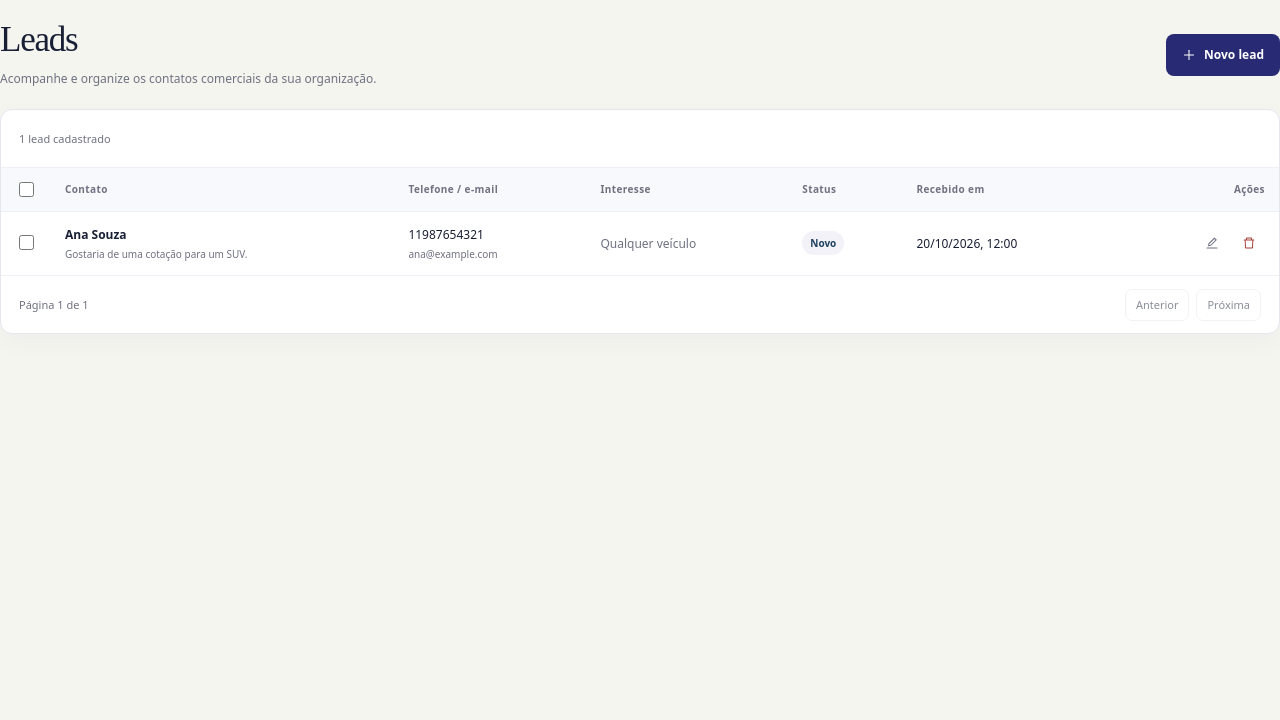
Scenario: leads page › updates lead status and deletes selected leads
Click the button named "Editar lead de Ana Souza": (1212, 243) [1196,227,1228,259]
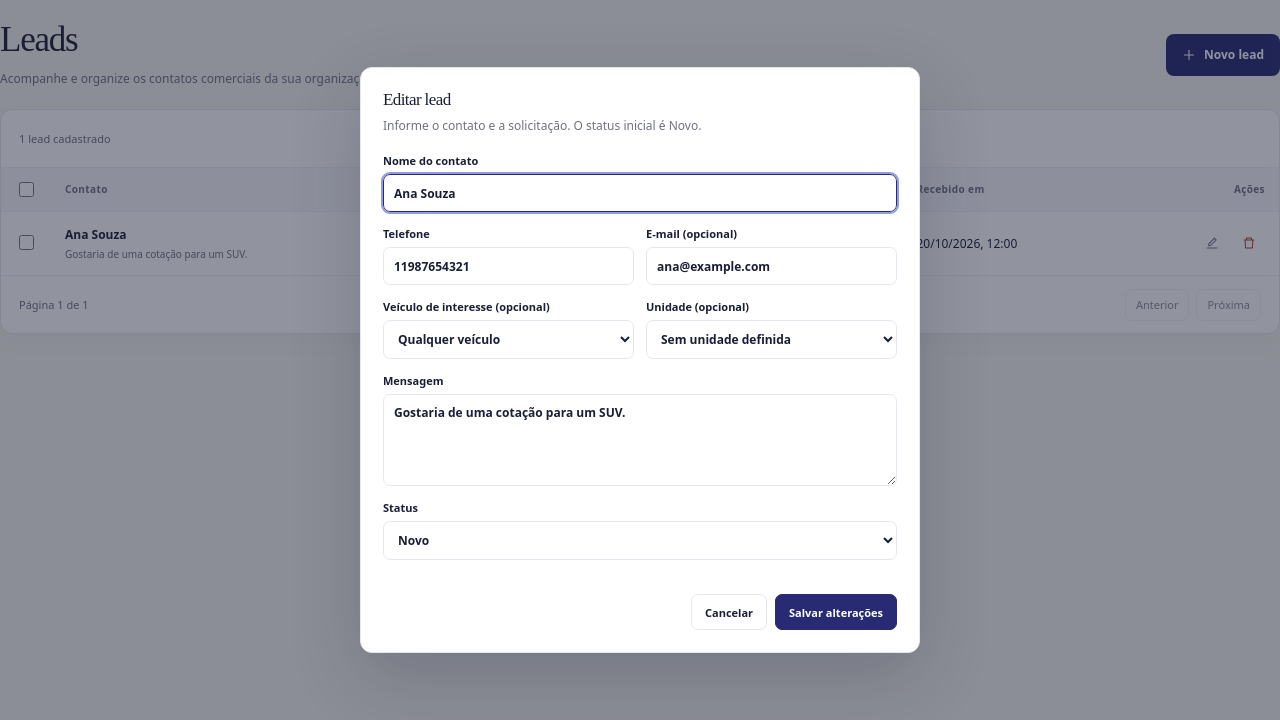
Select "Contatado" in the dropdown labelled "Status": (640, 540) [383,521,897,560]
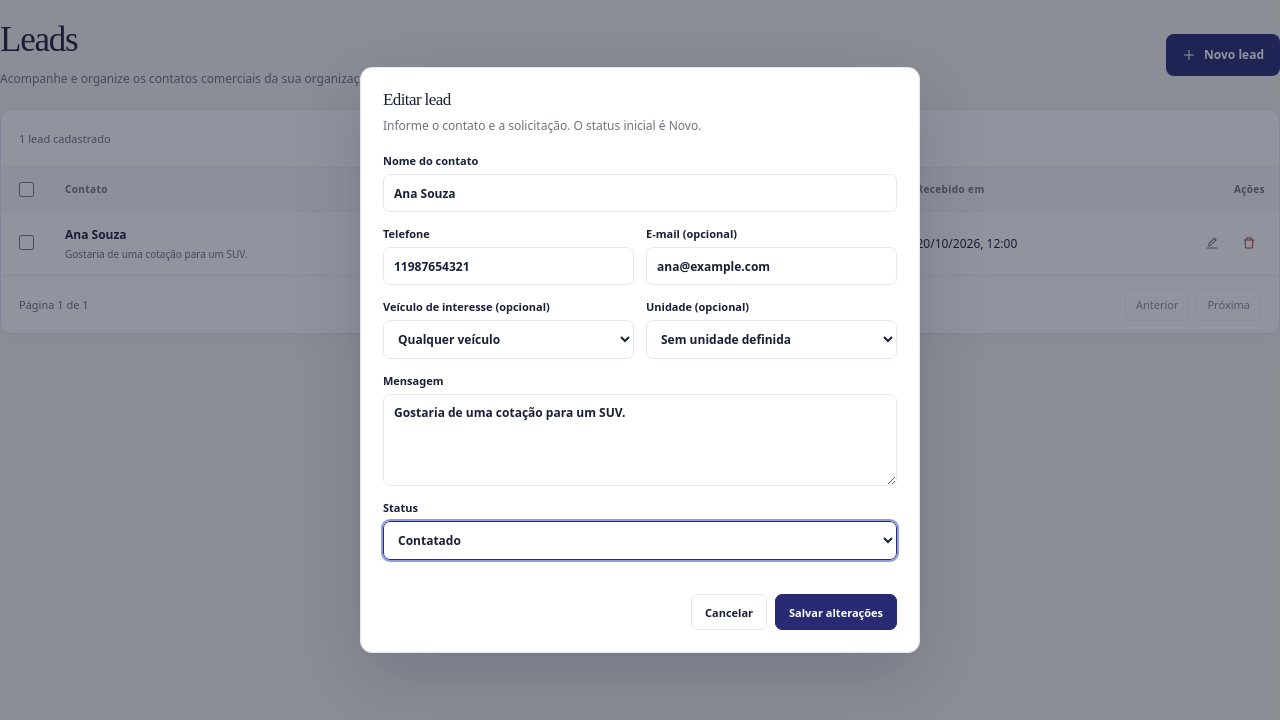
Click the button "Salvar alterações": (836, 612) [775,594,897,630]
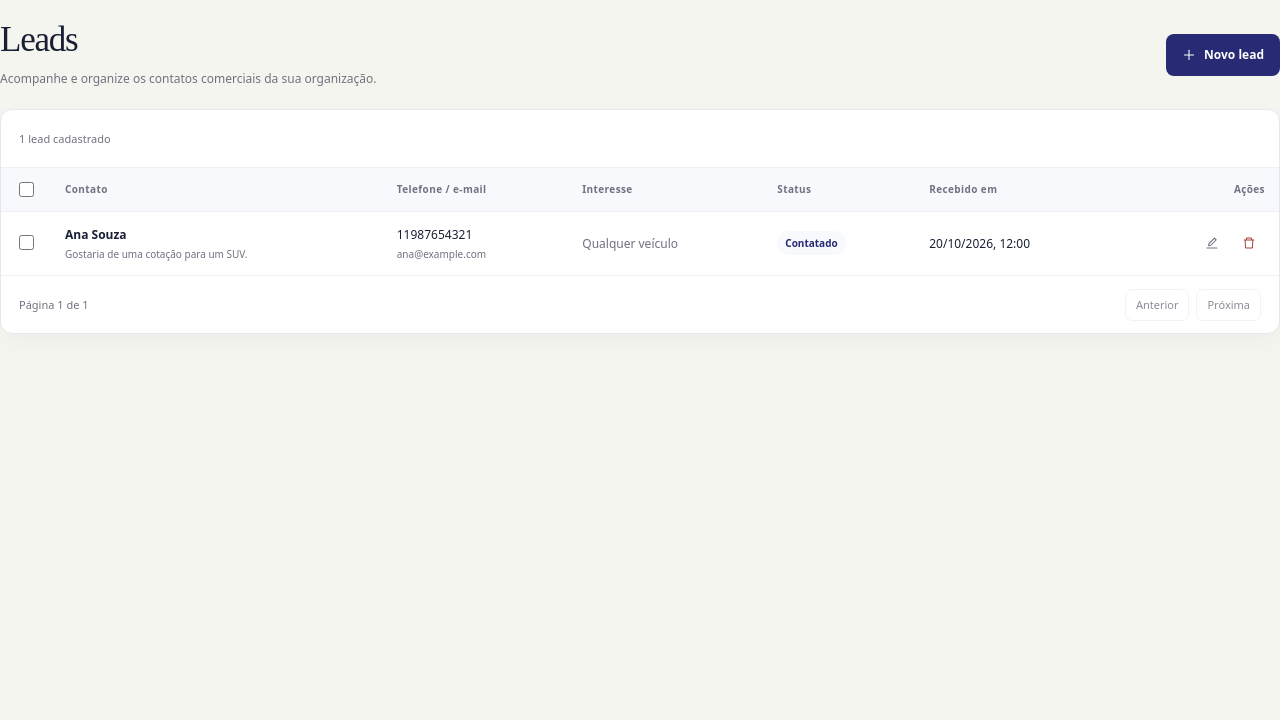
Now the text "Contatado" is shown, box [777,231,846,255]
Click the checkbox named "Selecionar Ana Souza": (26, 243) [19,235,34,250]
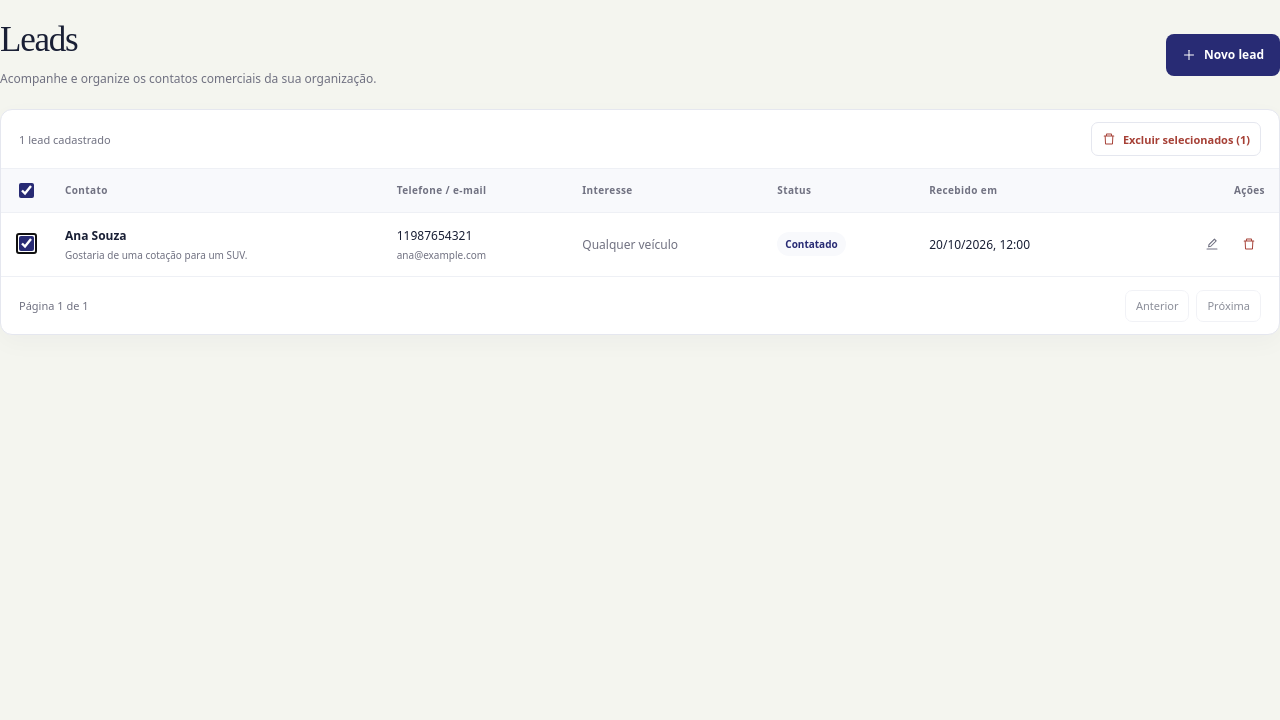
Click the button "Excluir selecionados (1)": (1176, 139) [1091,122,1261,156]
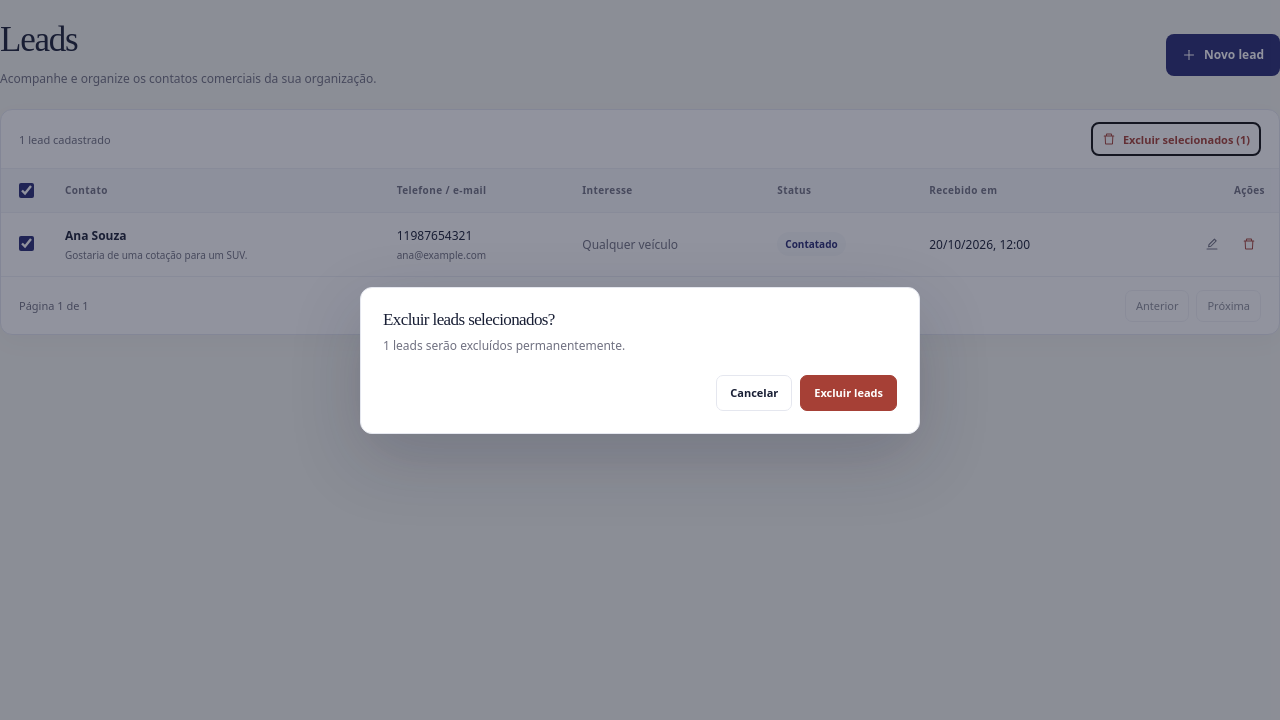
Click the button "Excluir leads": (849, 392) [800,374,897,410]
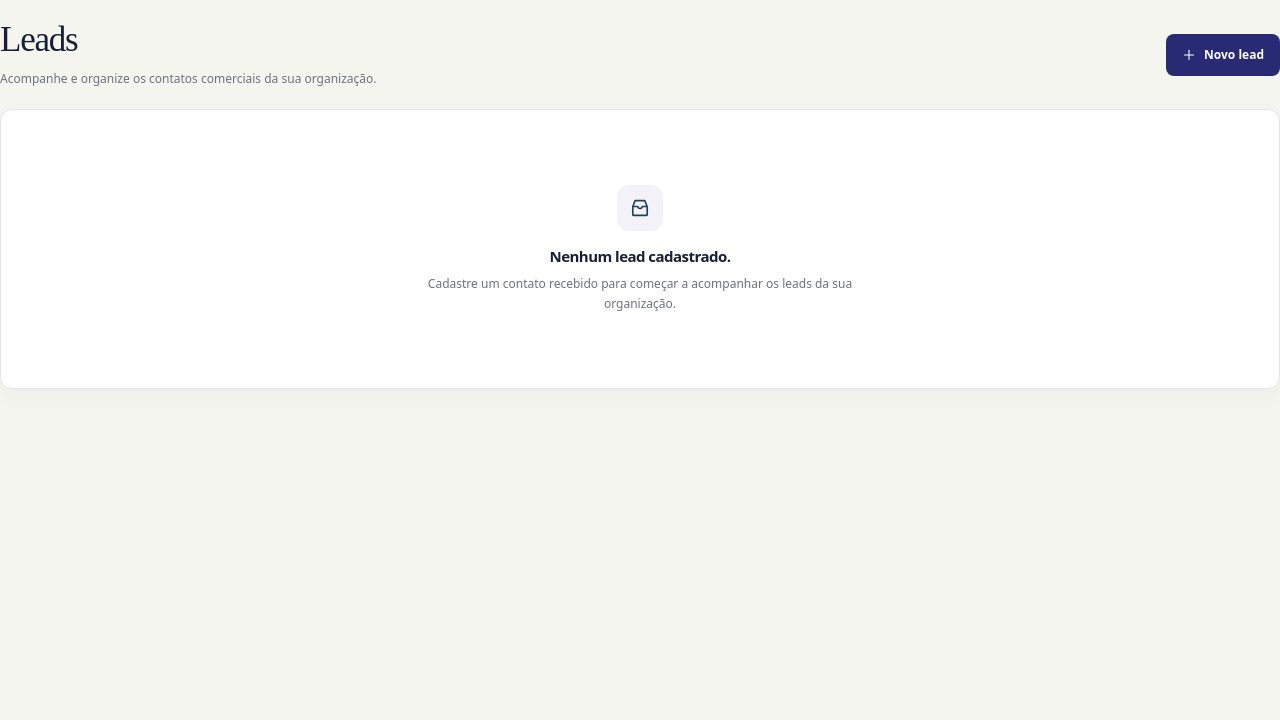
Now the heading "Nenhum lead cadastrado." is shown, box [550,246,730,266]
